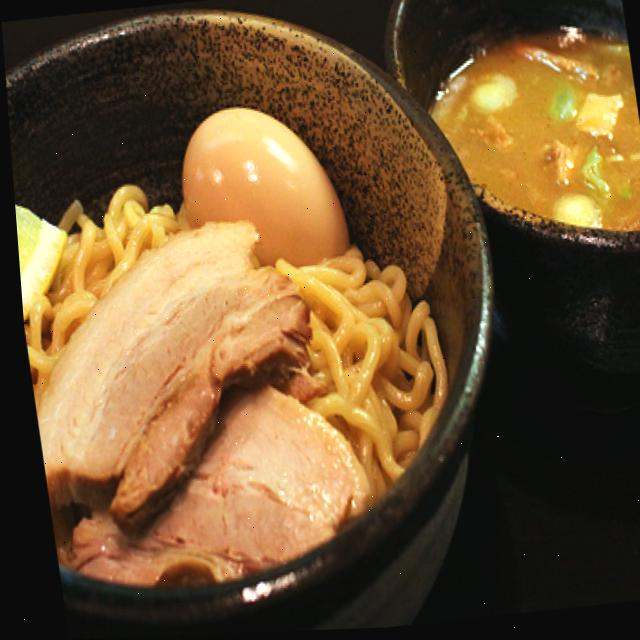面条主食: (1, 1, 640, 627)
